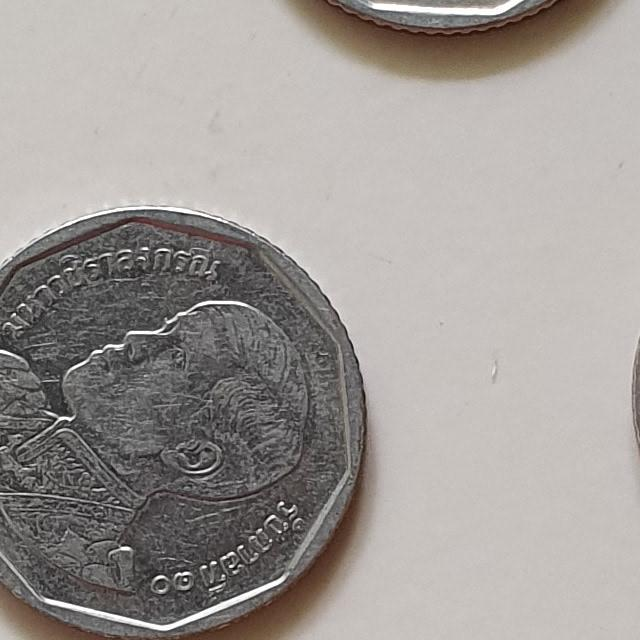5 Bath: (1, 197, 377, 640), (322, 1, 570, 42)
